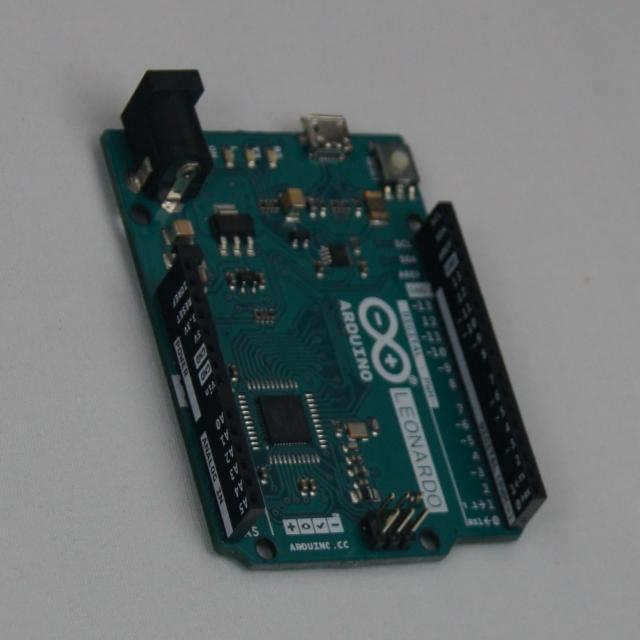Arduino-leonardo: (101, 71, 546, 567)
